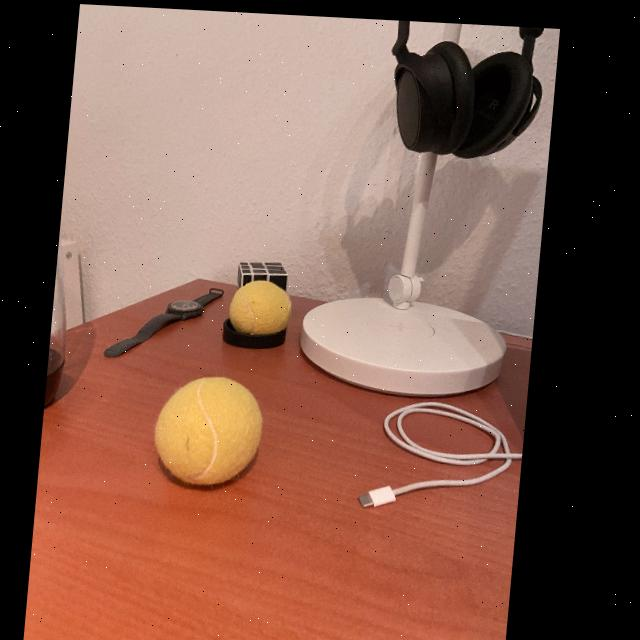Tennisball: (155, 377, 262, 485), (229, 281, 291, 334)
